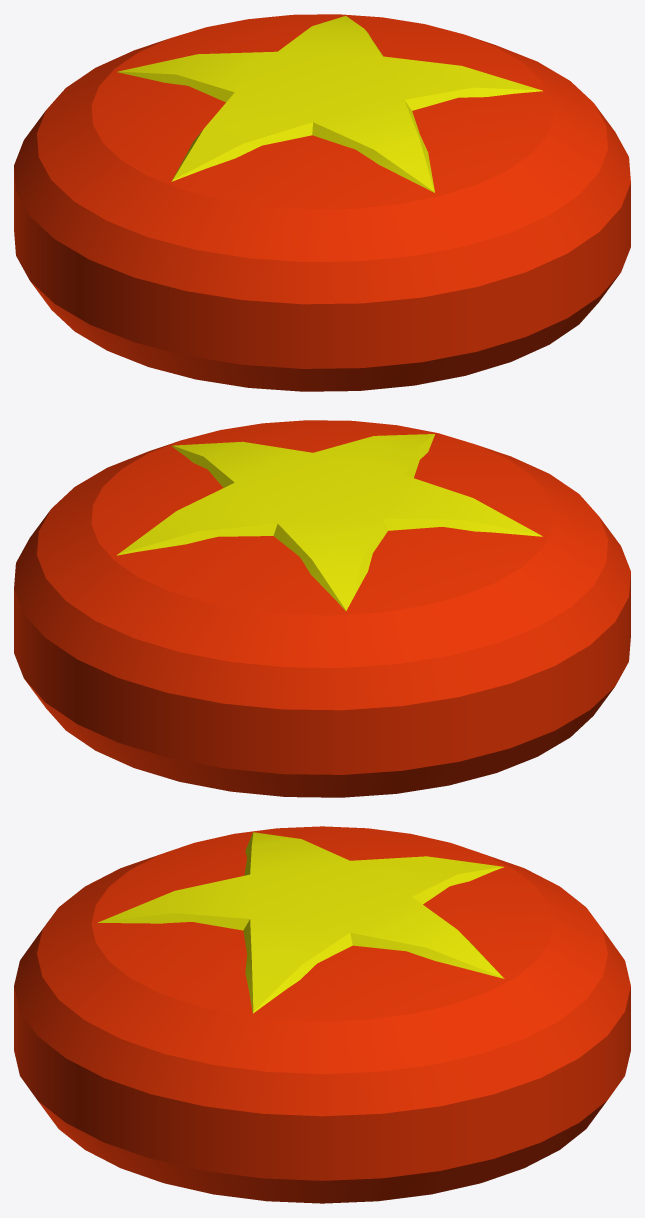
File: Bumper.fbx
3 renders of one model, top to bottom at view 1: azimuth 30°, elevation 25°; view 2: azimuth 150°, elevation 25°; view 3: azimuth 270°, elevation 25°, orthographic.
Parts seen in each view (by area): view 1: Cylinder; view 2: Cylinder; view 3: Cylinder.
Part boxes in pixels (bbox=[...]): Cylinder: bbox=[14, 14, 630, 391]; Cylinder: bbox=[14, 420, 630, 797]; Cylinder: bbox=[14, 826, 630, 1203].
Bounding box in the file's own units: 216 × 71.93 × 216.
